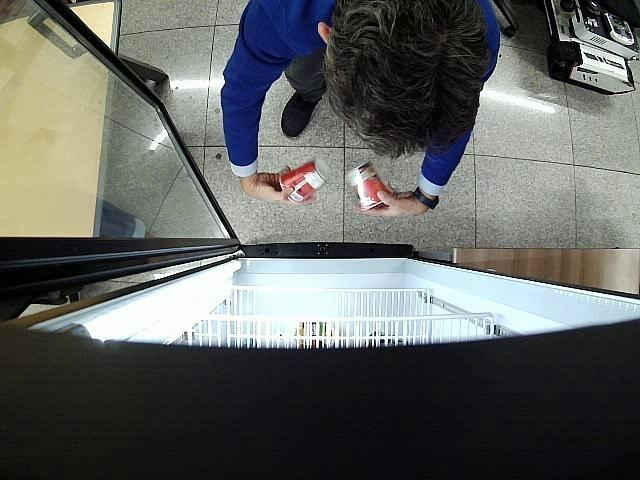02_shinRamen_S: (280, 154, 332, 204), (347, 162, 394, 210)
